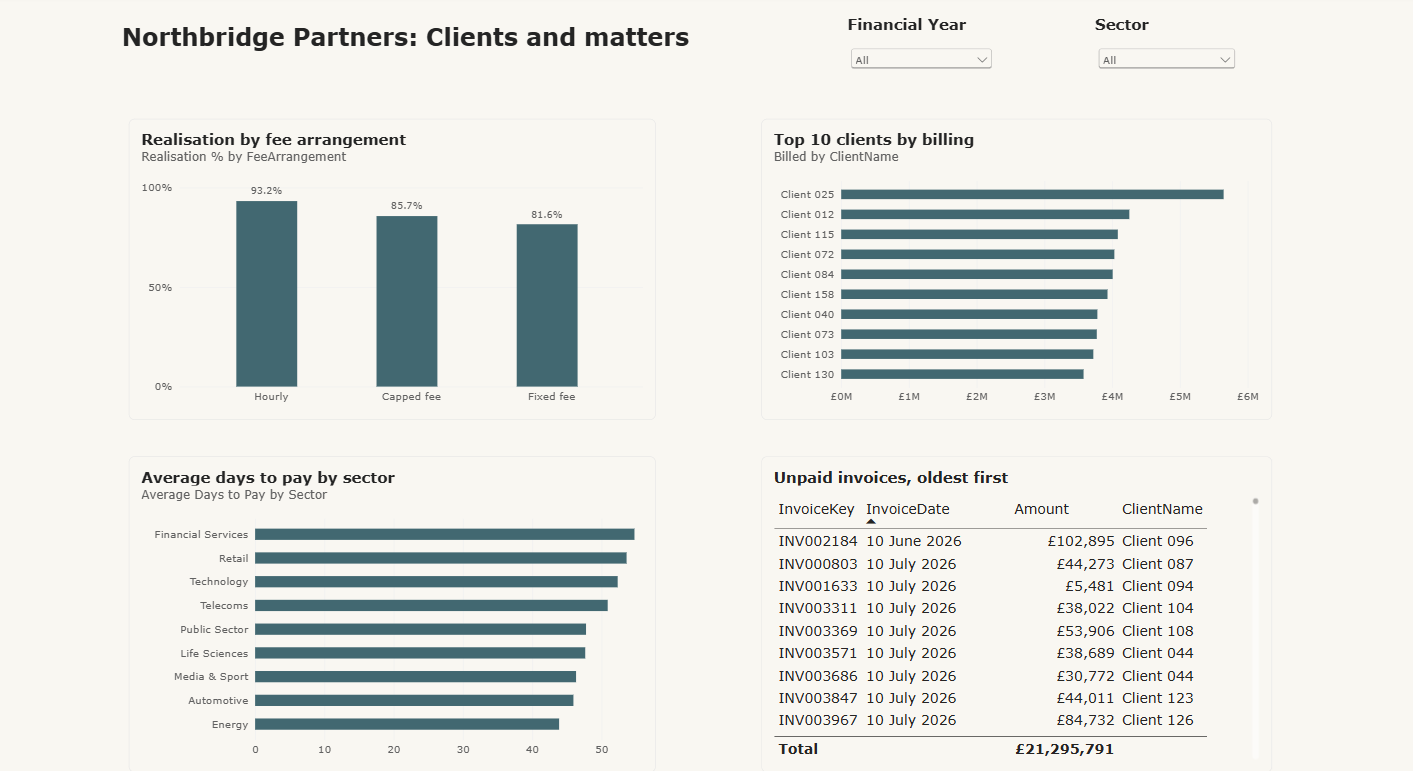

The page's visual inventory and layout, read from the dashboard file:
{"tool":"powerbi","page":{"name":"Clients and matters","canvas":[1920,1080],"ordinal":2},"visuals":[{"type":"textbox","box":[44,36,1010,92],"z":0},{"type":"slicer","title":"Financial Year","fields":{"Values":["dim_date.FinancialYear"]},"box":[1138,26,198,120],"z":1000},{"type":"slicer","title":"Sector","fields":{"Values":["dim_client.Sector"]},"box":[1470,26,192,120],"z":2000},{"type":"clusteredColumnChart","title":"Realisation by fee arrangement","fields":{"Category":["dim_matter.FeeArrangement"],"Y":["_Measures.Realisation %"]},"box":[178,166,704,402],"z":3000},{"type":"clusteredBarChart","title":"Top 10 clients by billing","fields":{"Category":["dim_client.ClientName"],"Y":["_Measures.Billed"]},"box":[1024,166,682,402],"z":4000},{"type":"clusteredBarChart","title":"Average days to pay by sector","fields":{"Category":["dim_client.Sector"],"Y":["_Measures.Average Days to Pay"]},"box":[178,616,704,422],"z":4001},{"type":"tableEx","title":"Unpaid invoices, oldest first","fields":{"Values":["fact_invoice.InvoiceKey","fact_invoice.InvoiceDate","Sum(fact_invoice.BilledAmount)","dim_client.ClientName"]},"box":[1024,616,682,422],"z":4002}]}

Visuals, with their boxes on the page's 1920x1080 design canvas (x1, y1, x2, y2). These are canvas units, not pixel positions in the 1413x771 screenshot, which may show the page scaled, cropped or inside an application window:
textbox: {"x1": 44, "y1": 36, "x2": 1054, "y2": 128}
"Financial Year" slicer: {"x1": 1138, "y1": 26, "x2": 1336, "y2": 146}
"Sector" slicer: {"x1": 1470, "y1": 26, "x2": 1662, "y2": 146}
"Realisation by fee arrangement" clusteredColumnChart: {"x1": 178, "y1": 166, "x2": 882, "y2": 568}
"Top 10 clients by billing" clusteredBarChart: {"x1": 1024, "y1": 166, "x2": 1706, "y2": 568}
"Average days to pay by sector" clusteredBarChart: {"x1": 178, "y1": 616, "x2": 882, "y2": 1038}
"Unpaid invoices, oldest first" tableEx: {"x1": 1024, "y1": 616, "x2": 1706, "y2": 1038}
